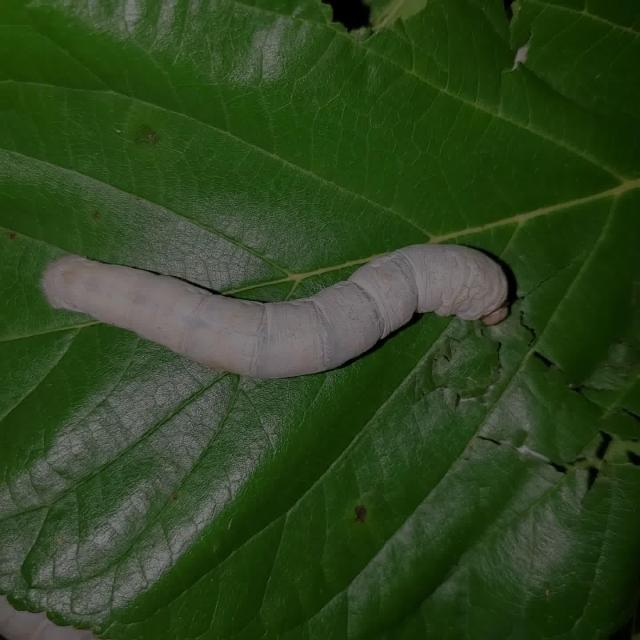Healthy: (36, 233, 514, 384)
